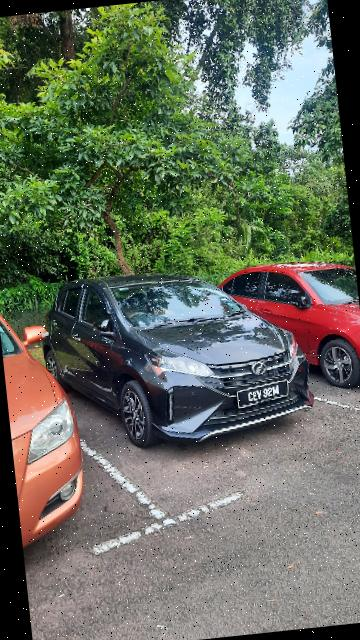License_Plate: (229, 377, 301, 416)
car: (36, 254, 320, 457), (1, 299, 94, 541), (215, 251, 360, 396)
